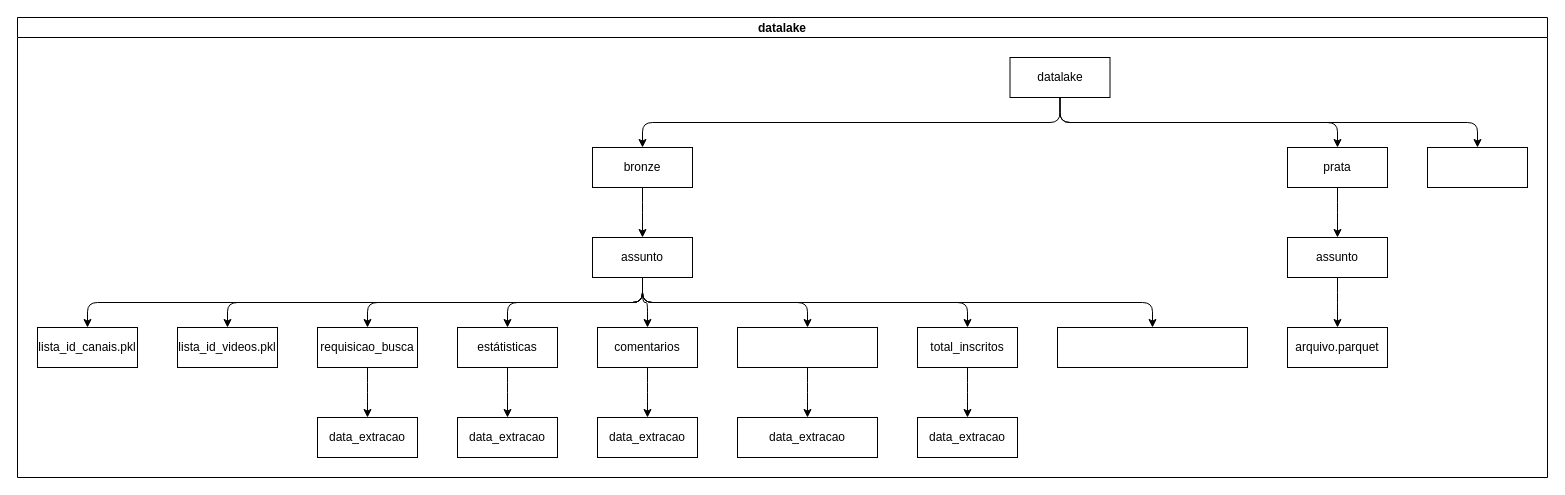
This 1565x495 diagram has some shape labels left out. The shapes that lost their labels are listed below. From the top down, each one's centre as x and y in pixels, then its label:
the point at 1477,167: ouro
the point at 807,347: resposta_comentarios
the point at 1152,347: lista_id_videos_comen .pkl
